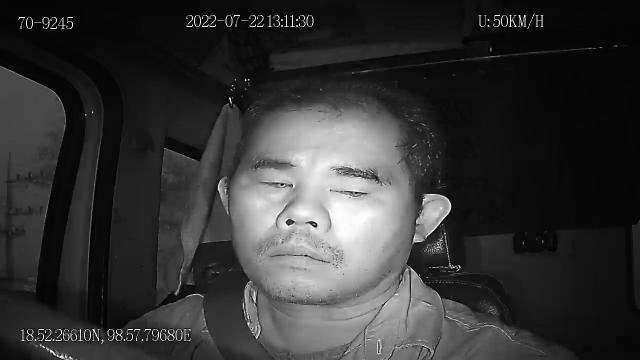SafeDriving: (321, 170, 389, 206), (246, 164, 304, 200)
Seatbelt: (201, 287, 277, 360)
